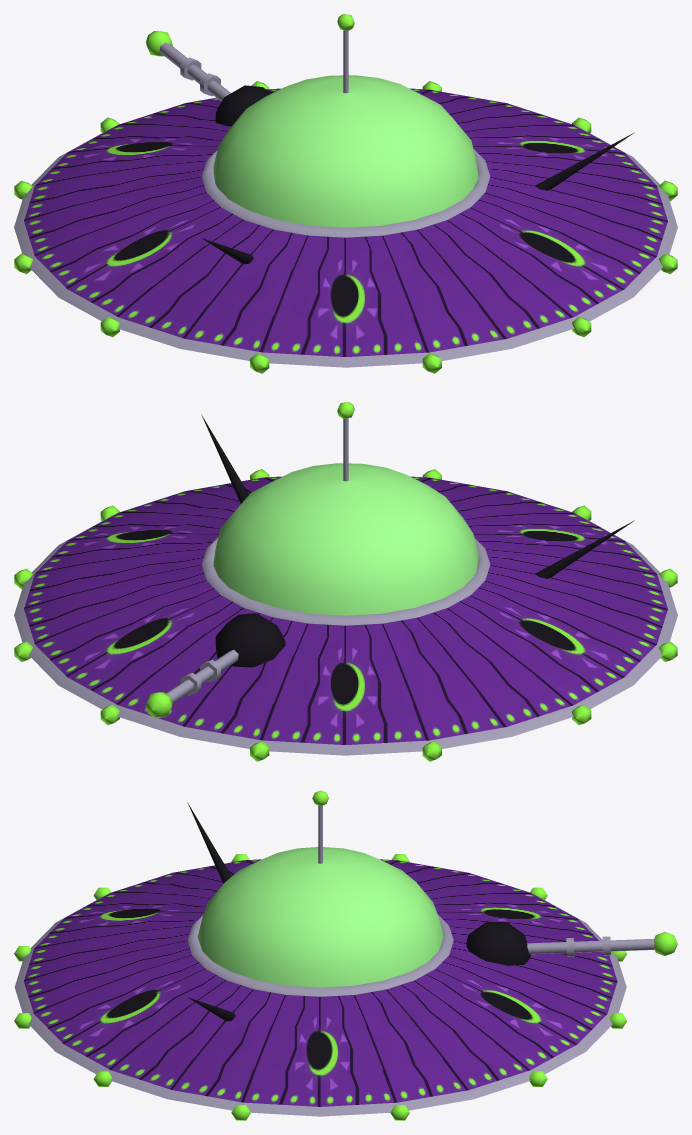
File: raider_saucer.obj
3 renders of one model, top to bottom at view 1: azimuth 30°, elevation 25°; view 2: azimuth 150°, elevation 25°; view 3: azimuth 270°, elevation 25°, orthographic. The views are drawn at different scales.
Visible parts, largest first — view 1: disc, dome, dome_ring, rim_light, turret, spike, ray; view 2: disc, dome, dome_ring, rim_light, turret, spike, ray, ray_tip; view 3: disc, dome, dome_ring, rim_light, turret, ray, spike.
Part boxes in pixels (x1,y1,x2,y2): disc: (14, 88, 677, 367); dome: (213, 75, 478, 227); dome_ring: (201, 149, 490, 237); rim_light: (14, 81, 677, 373); turret: (215, 85, 271, 126); spike: (201, 132, 634, 264); ray: (160, 42, 230, 101); disc: (14, 476, 677, 755); dome: (213, 463, 478, 615); dome_ring: (201, 537, 490, 625); rim_light: (14, 469, 677, 761); turret: (215, 613, 285, 667); spike: (201, 414, 634, 578); ray: (166, 650, 238, 703); ray_tip: (145, 692, 172, 717); disc: (14, 859, 626, 1116); dome: (197, 847, 443, 987); dome_ring: (187, 914, 453, 996); rim_light: (14, 854, 627, 1120); turret: (466, 922, 530, 965); ray: (527, 939, 654, 954); spike: (187, 802, 235, 1021).
Bounding box in the file's own units: 16 × 7.17 × 17.36.
5 materials, 1 textured.
